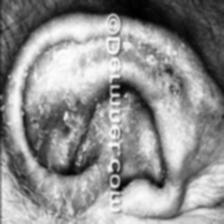Non-Cancerous Skin Condition: (38, 44, 72, 78), (59, 108, 71, 122), (122, 40, 133, 51)
